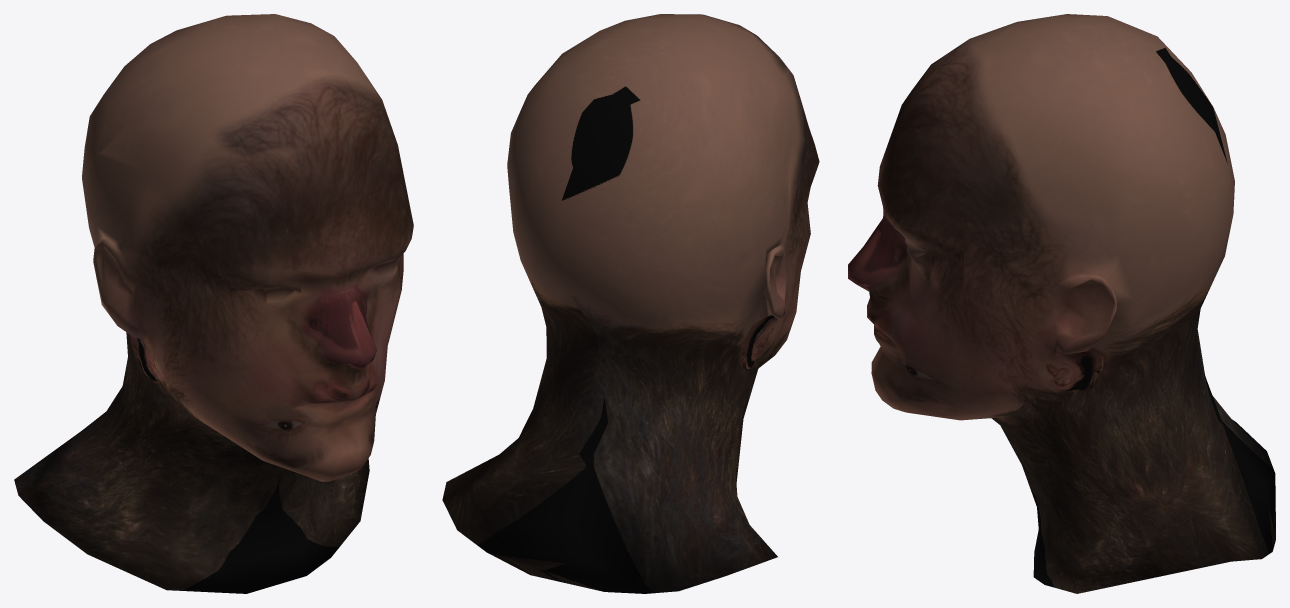
The model's file is kopflowpoly0.3.glb.
3 views of the same model, side by side, from view 1: azimuth 30°, elevation 25°; view 2: azimuth 150°, elevation 25°; view 3: azimuth 270°, elevation 25° (orthographic). The views are drawn at different scales.
Parts seen in each view (by area): view 1: FBHead; view 2: FBHead; view 3: FBHead.
Part boxes in pixels (bbox=[...]): FBHead: bbox=[14, 14, 413, 593]; FBHead: bbox=[442, 14, 819, 593]; FBHead: bbox=[848, 14, 1275, 593].
Size of the model in its own units: 1.62 by 2.55 by 1.85.
Materials: 1 (1 with a texture image).
